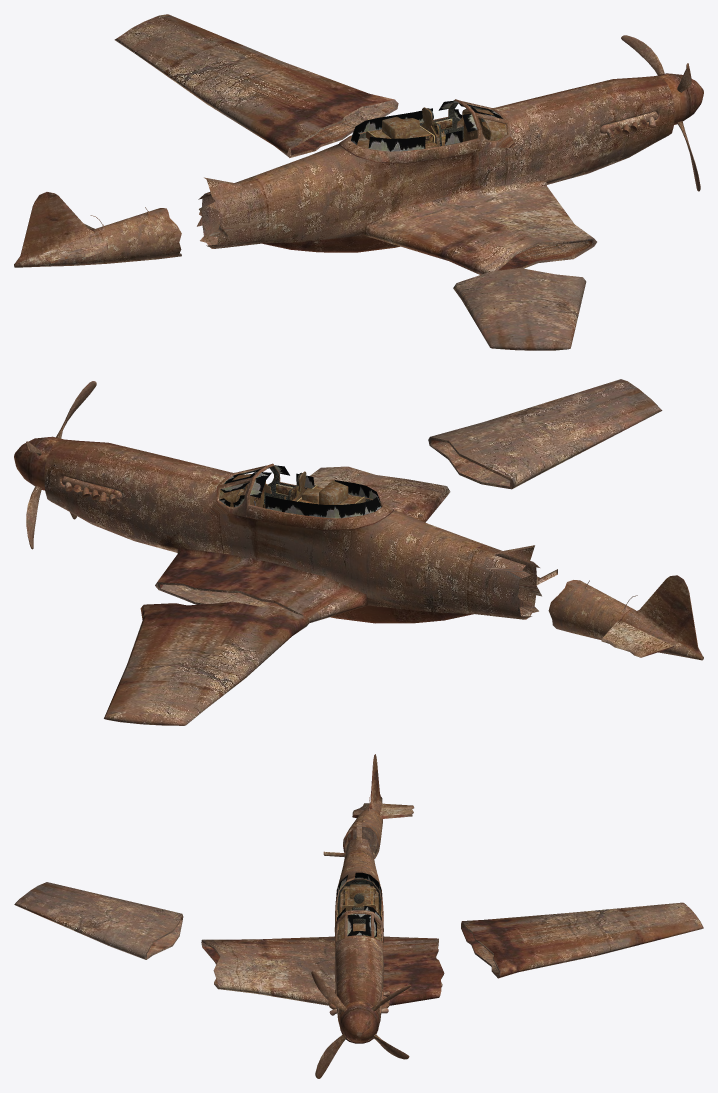
File: air.FBX
The picture shows the model from 3 angles, top to bottom: view 1: azimuth 30°, elevation 25°; view 2: azimuth 150°, elevation 25°; view 3: azimuth 270°, elevation 25°; orthographic projection. The views are drawn at different scales.
Visible parts, largest first — view 1: js, cy2, cy, wy; view 2: js, cy2, cy, wy; view 3: js, cy2, cy, wy.
Boxes of the visible parts, <box> form: js: <box>197,35,703,274</box>; cy2: <box>114,14,398,157</box>; cy: <box>453,268,586,350</box>; wy: <box>14,192,181,267</box>; js: <box>14,381,557,623</box>; cy2: <box>104,601,309,725</box>; cy: <box>428,379,662,489</box>; wy: <box>548,575,703,660</box>; js: <box>201,822,444,1078</box>; cy2: <box>461,902,703,978</box>; cy: <box>14,882,183,959</box>; wy: <box>343,754,414,858</box>.
Bounding box in the file's own units: 2422 × 476 × 2805.
